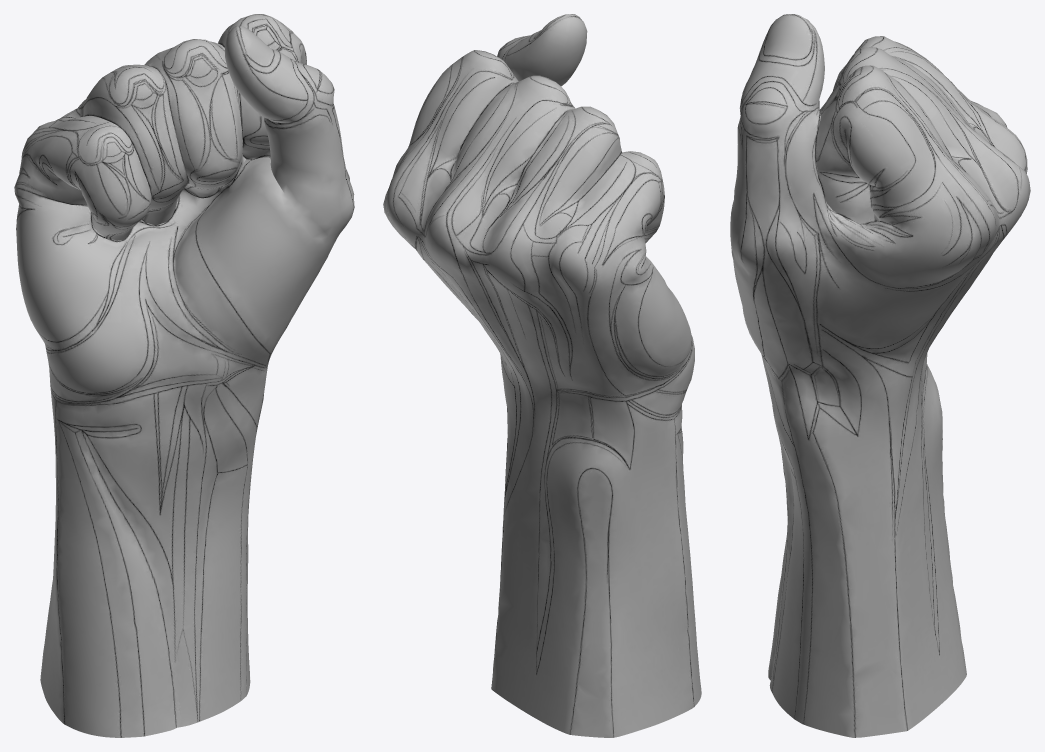
The model's file is 手_opt.glb.
3 views of the same model, side by side, from view 1: azimuth 30°, elevation 25°; view 2: azimuth 150°, elevation 25°; view 3: azimuth 270°, elevation 25° (orthographic). The views are drawn at different scales.
Visible parts, largest first — view 1: FemaleFist_2lvl; view 2: FemaleFist_2lvl; view 3: FemaleFist_2lvl.
Boxes of the visible parts, x1=… form: FemaleFist_2lvl: x1=14, y1=14, x2=354, y2=737; FemaleFist_2lvl: x1=383, y1=14, x2=701, y2=737; FemaleFist_2lvl: x1=730, y1=14, x2=1030, y2=737.
Bounding box in the file's own units: 0.1715 × 0.4 × 0.1546.
Materials: 2 (1 with a texture image).
